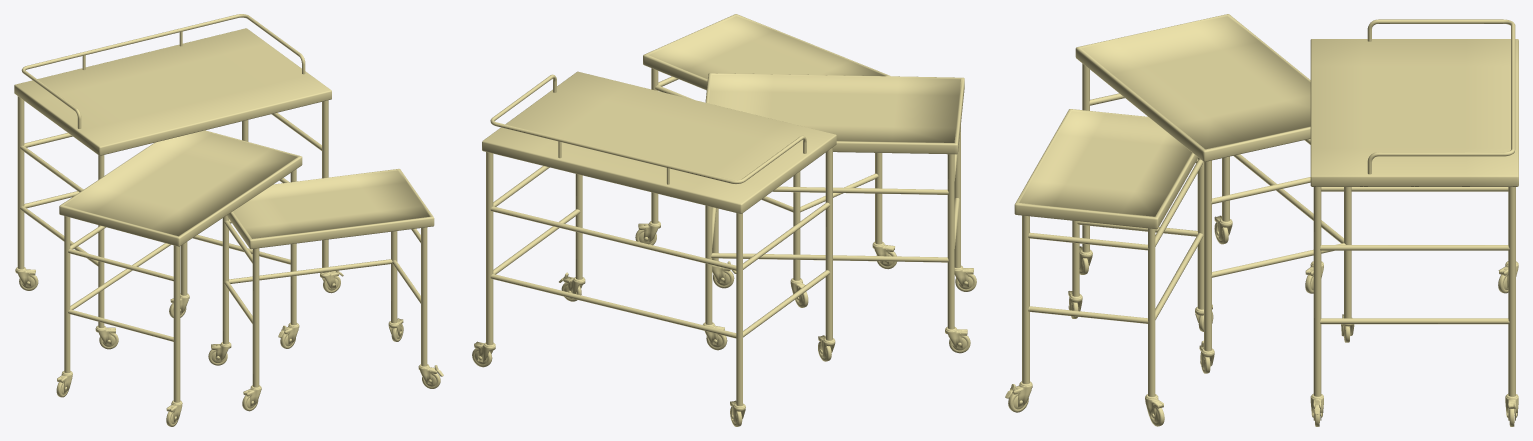
File: cart.fbx
3 renders of one model, left to right at view 1: azimuth 30°, elevation 25°; view 2: azimuth 150°, elevation 25°; view 3: azimuth 270°, elevation 25°, orthographic. The views are drawn at different scales.
Visible parts, largest first — view 1: main toly; view 2: main toly; view 3: main toly.
Part boxes in pixels (bbox=[...]): main toly: bbox=[14, 14, 443, 426]; main toly: bbox=[472, 14, 976, 426]; main toly: bbox=[1005, 14, 1518, 426].
Bounding box in the file's own units: 134 × 87.14 × 151.
